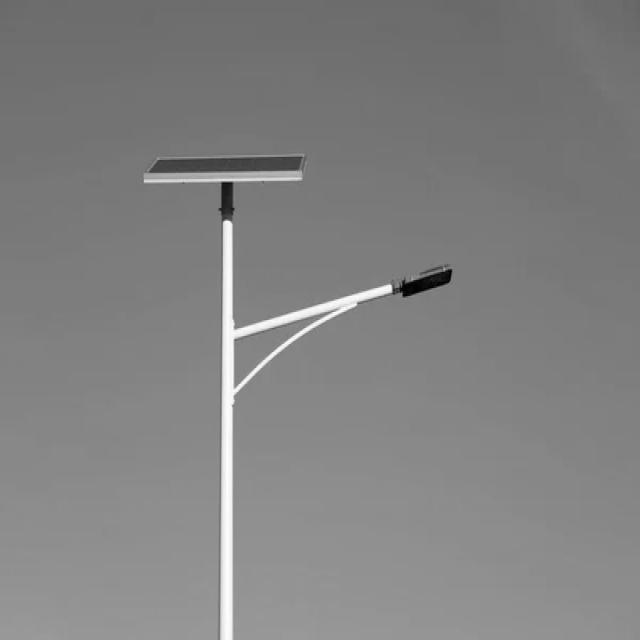Pole: (218, 182, 234, 640)
